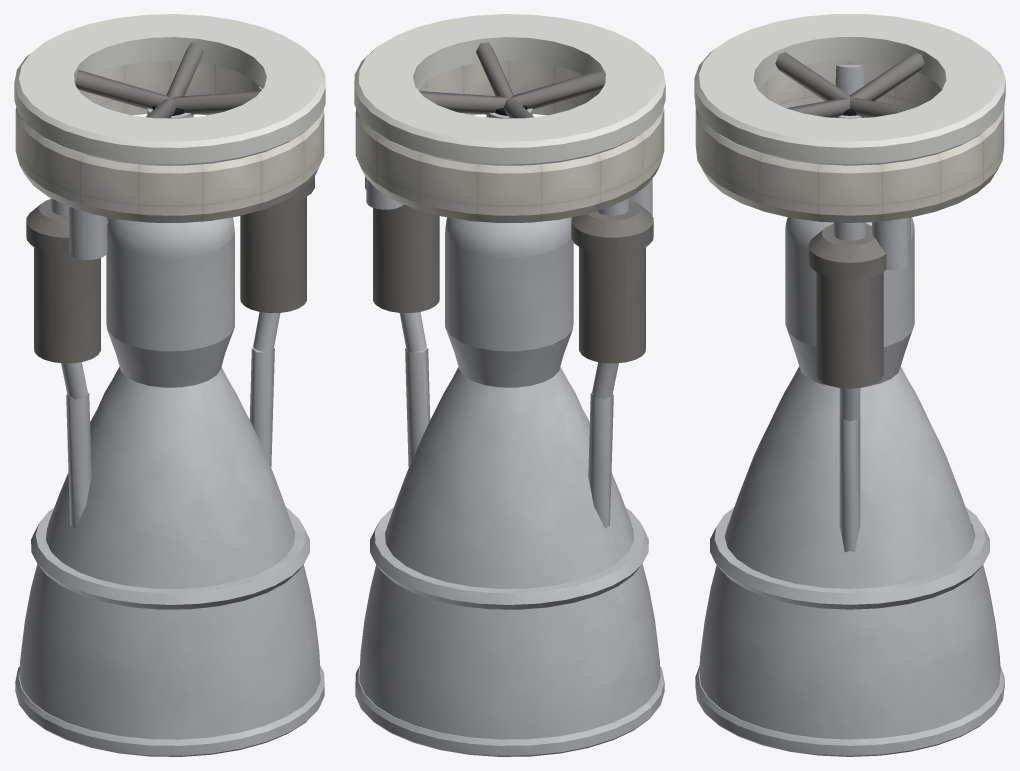
File: ax_prop_04_raptor_sl.glb
The picture shows the model from 3 angles, left to right: view 1: azimuth 30°, elevation 25°; view 2: azimuth 150°, elevation 25°; view 3: azimuth 270°, elevation 25°; orthographic projection.
Visible parts, largest first — view 1: regen_nozzle, mount_ring, thermal_blanket_ring, turbopumps, chamber, regen_manifold, plumbing, nozzle_lip, thrust_struts, injector_dome, preburners; view 2: regen_nozzle, mount_ring, thermal_blanket_ring, turbopumps, chamber, regen_manifold, plumbing, nozzle_lip, thrust_struts, injector_dome, preburners; view 3: regen_nozzle, mount_ring, thermal_blanket_ring, turbopumps, regen_manifold, chamber, nozzle_lip, plumbing, thrust_struts, preburners, injector_dome.
Boxes of the visible parts, box(x1,y1,x2,y2) form: regen_nozzle: box(19, 367, 320, 739); mount_ring: box(14, 14, 325, 165); thermal_blanket_ring: box(15, 60, 324, 222); turbopumps: box(26, 176, 314, 363); chamber: box(106, 233, 234, 387); regen_manifold: box(31, 507, 309, 609); plumbing: box(50, 86, 280, 528); nozzle_lip: box(15, 665, 324, 756); thrust_struts: box(75, 42, 260, 118); injector_dome: box(108, 108, 234, 257); preburners: box(68, 207, 107, 259); regen_nozzle: box(359, 367, 660, 739); mount_ring: box(354, 14, 665, 165); thermal_blanket_ring: box(355, 60, 664, 222); turbopumps: box(365, 176, 653, 363); chamber: box(445, 233, 573, 387); regen_manifold: box(370, 507, 648, 609); plumbing: box(399, 86, 629, 528); nozzle_lip: box(355, 665, 664, 756); thrust_struts: box(419, 42, 604, 118); injector_dome: box(445, 108, 571, 257); preburners: box(366, 178, 652, 215); regen_nozzle: box(699, 366, 1000, 739); mount_ring: box(694, 14, 1005, 165); thermal_blanket_ring: box(695, 60, 1004, 222); turbopumps: box(808, 224, 886, 388); regen_manifold: box(710, 507, 989, 609); chamber: box(785, 231, 914, 385); nozzle_lip: box(695, 666, 1004, 756); plumbing: box(833, 65, 866, 552); thrust_struts: box(775, 52, 924, 117); preburners: box(872, 217, 910, 269); injector_dome: box(785, 115, 914, 250).
Size of the model in its own units: 1.34 by 2.83 by 1.3.
5 materials, 3 textured.
